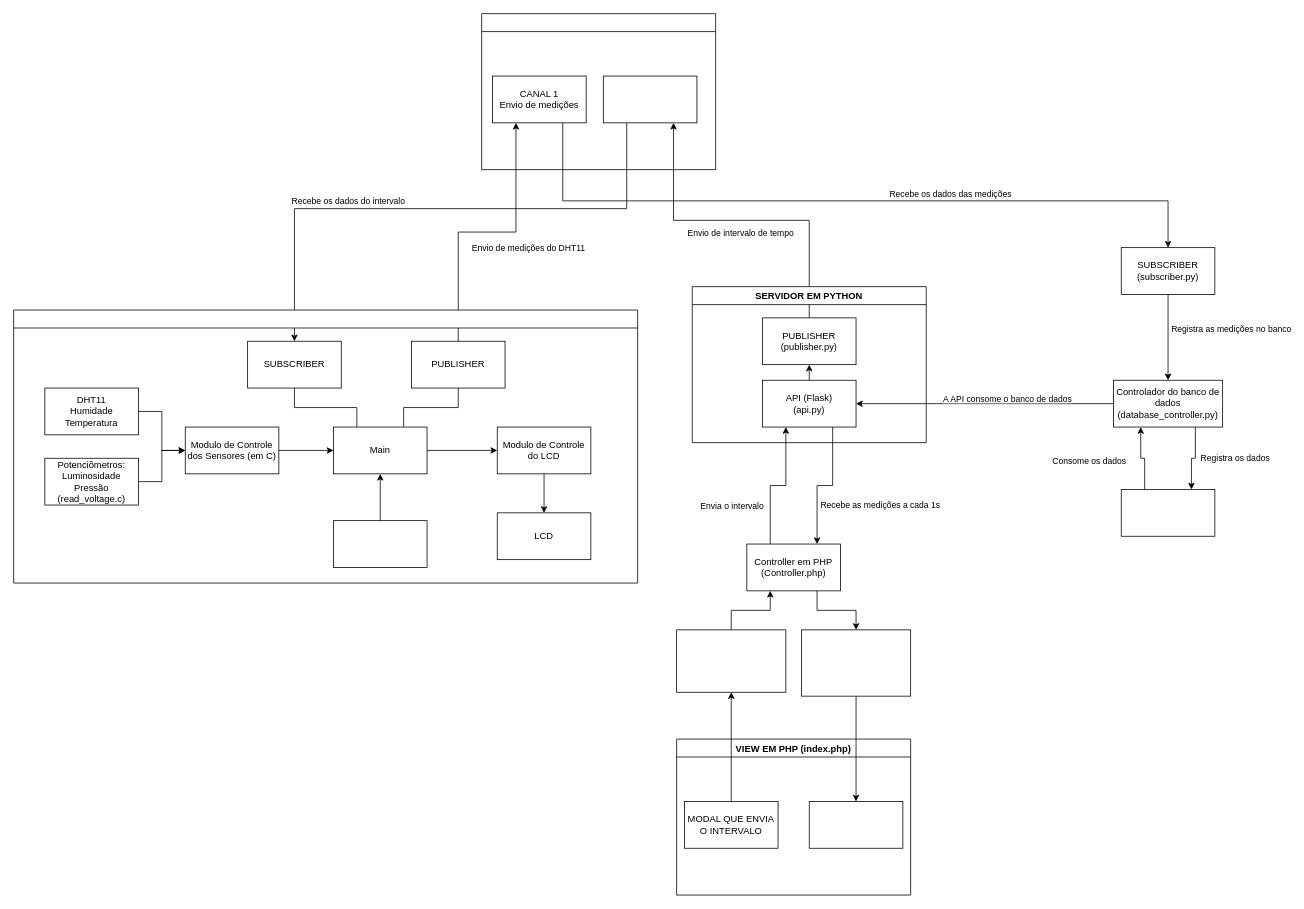
The diagram is 1304 pixels wide and 909 high, and some of its shapes have lost their labels. The box of each missing label's shape, as (x1, y1, x2, y2) in pixels:
Banco de dados em JSON (measures.json): (1120, 489, 1215, 536)
BROKER (Servidor no LEDS): (481, 13, 716, 170)
CANAL 2 Envio de intervalos: (603, 75, 697, 123)
Inputs (Deepswitches e PushButtons): (333, 520, 427, 567)
LISTAGEM DOS DADOS: (808, 801, 903, 848)
RASPBERRY (main_final.c): (13, 309, 638, 583)
Sub Controller Resp. por tratar o dado do intervalo para enviar (interval.php): (676, 629, 786, 692)
Sub Controller Resp. por tratar os dados e renderizar a lista (measures.php): (801, 629, 911, 696)
